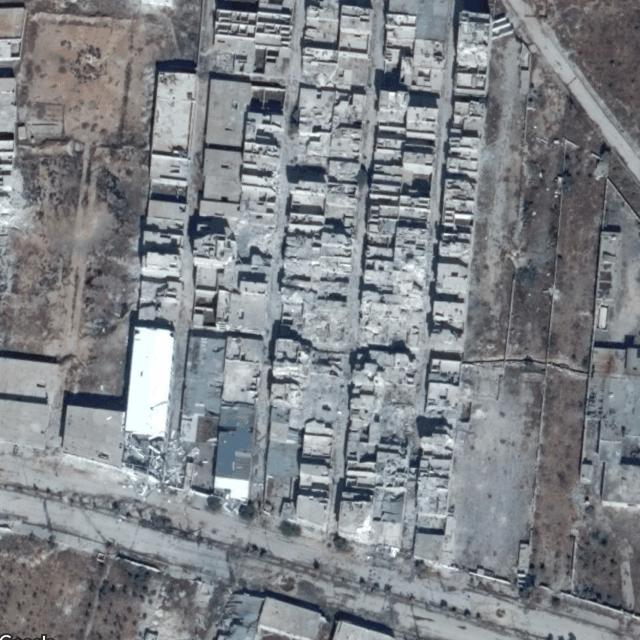damaged_building: (238, 221, 426, 520), (120, 431, 247, 512)
